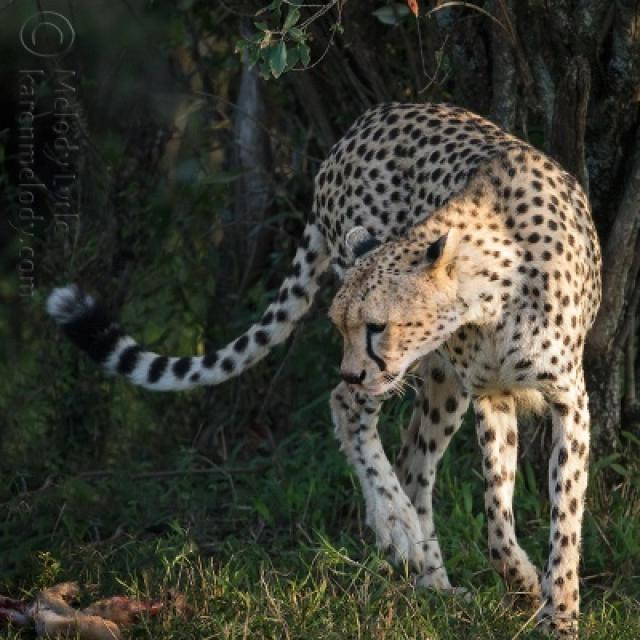Cheetah: (48, 102, 600, 638)
